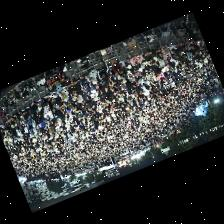person: (96, 55, 109, 80), (55, 83, 67, 100), (110, 59, 122, 75), (20, 108, 32, 123), (61, 91, 71, 108), (129, 53, 141, 67), (67, 81, 79, 95), (84, 69, 96, 83), (42, 98, 50, 119), (46, 92, 60, 104), (52, 104, 60, 123), (108, 69, 117, 85), (142, 50, 153, 63), (34, 100, 43, 115), (151, 46, 162, 58), (79, 76, 89, 88), (89, 85, 97, 100), (167, 42, 177, 54), (79, 83, 89, 95), (90, 77, 100, 89), (125, 79, 133, 94), (80, 100, 89, 113), (36, 117, 44, 131), (73, 88, 81, 102), (99, 80, 109, 91), (28, 105, 36, 118), (144, 64, 154, 74), (115, 73, 125, 83), (140, 58, 149, 69), (138, 68, 146, 80), (156, 57, 164, 69), (42, 117, 49, 130), (175, 42, 185, 51), (120, 59, 130, 68), (130, 76, 139, 86), (129, 65, 138, 74), (162, 52, 171, 61), (126, 70, 134, 80), (80, 92, 86, 105), (25, 116, 31, 129), (0, 120, 8, 129), (160, 44, 168, 53), (145, 73, 153, 82), (108, 82, 115, 92), (48, 123, 53, 136), (30, 118, 35, 131), (7, 117, 14, 126), (184, 38, 189, 50), (179, 51, 187, 58), (97, 88, 104, 96), (188, 39, 193, 49), (55, 65, 62, 72), (153, 56, 158, 65), (137, 67, 142, 76), (163, 59, 169, 66)
